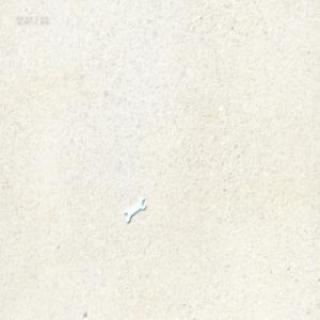Wrenchtrack_idkeyframe: (122, 197, 146, 224)
